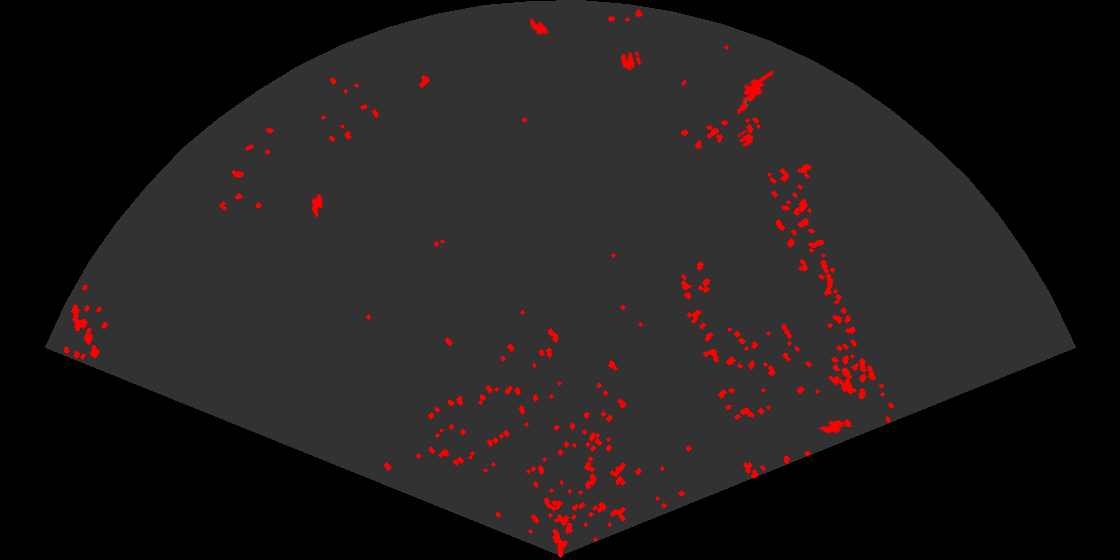AUV: (817, 418, 846, 434), (528, 17, 550, 37), (310, 193, 325, 218)
ball: (619, 50, 643, 72), (736, 128, 755, 148)
frogman: (731, 71, 773, 117)
